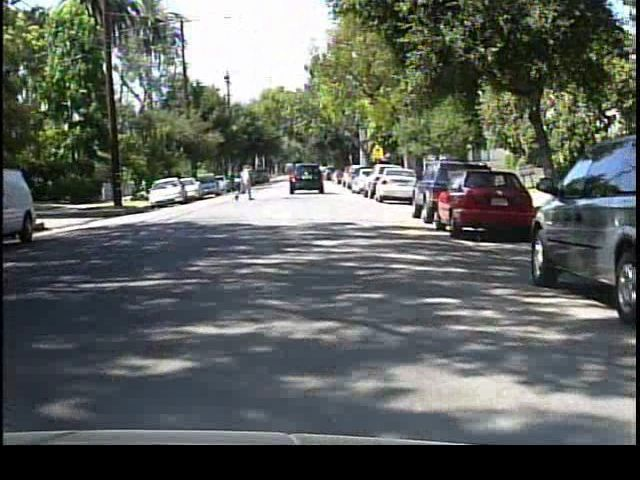person: (235, 160, 258, 204)
